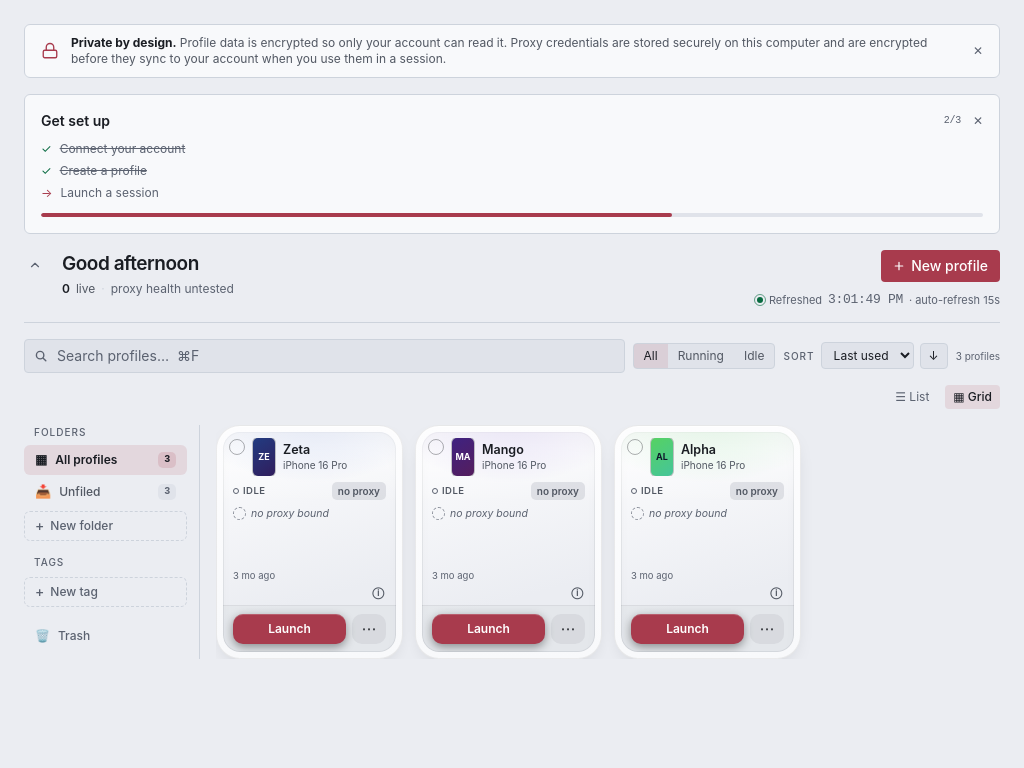
Test: ProfilesView unified sort persists across grid↔list › keeps working when WebView storage throws on read or write
This screenshot has width=1024, height=768.
expect the text "Zeta" is shown: met, box [283,442,310,456]
Click the button "☰ List" at (912, 396), box [887,384,937,408]
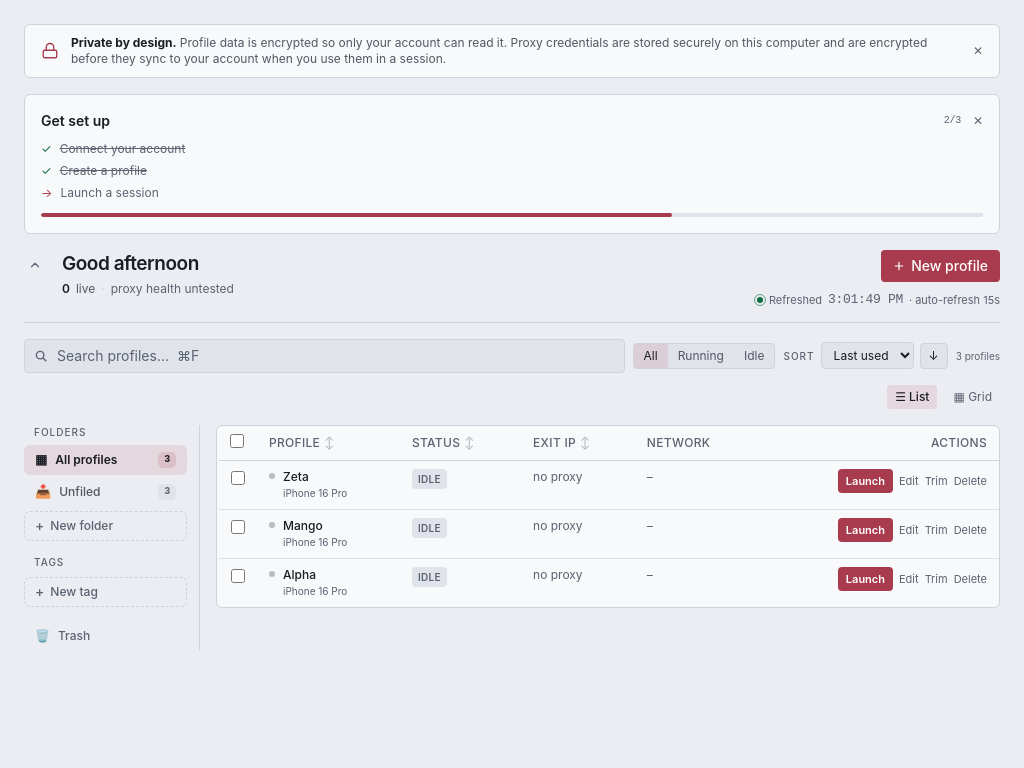
expect the table is shown: met, box [217,426,999,606]
